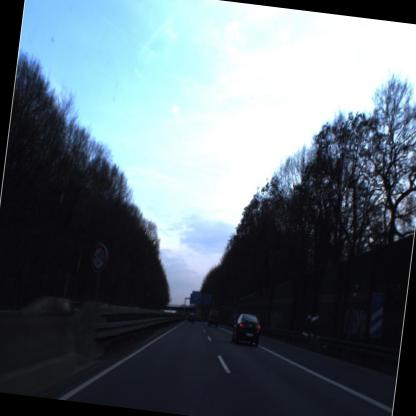prohibitory: (81, 233, 111, 280)
